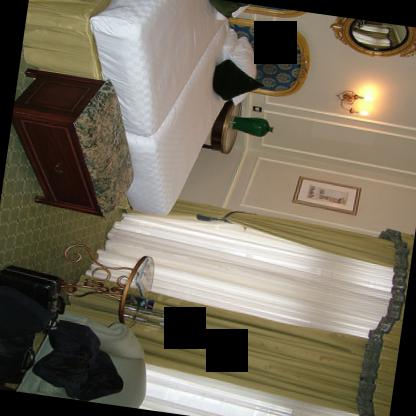backpack: (0, 283, 51, 341)
handbag: (0, 333, 35, 384)
suitcase: (0, 262, 68, 313)
